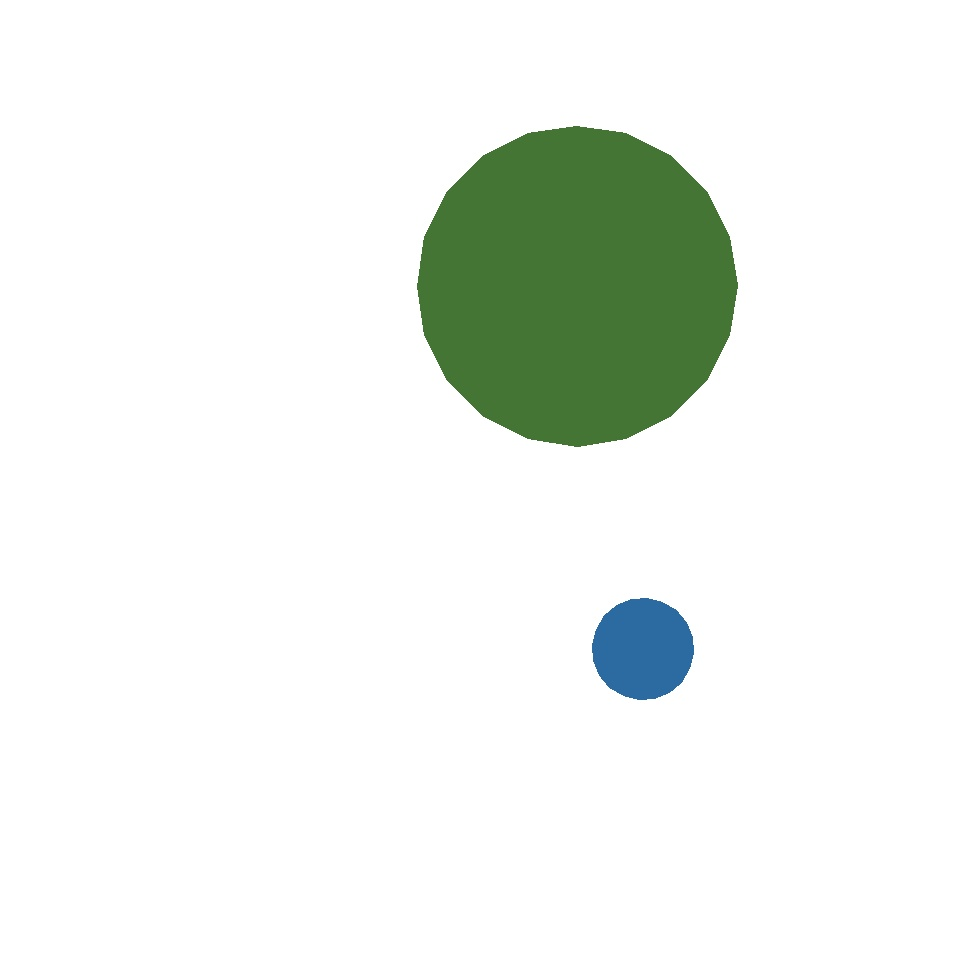triangle: (417, 126, 737, 446), (360, 320, 664, 624), (13, 321, 308, 616), (78, 619, 226, 767), (592, 598, 694, 700)
